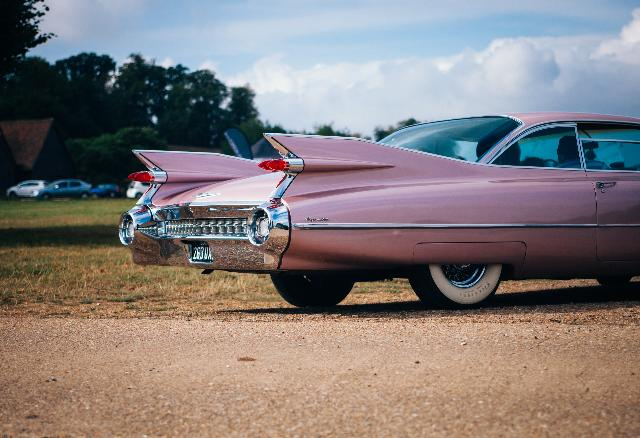cadillac: (118, 112, 640, 310)
